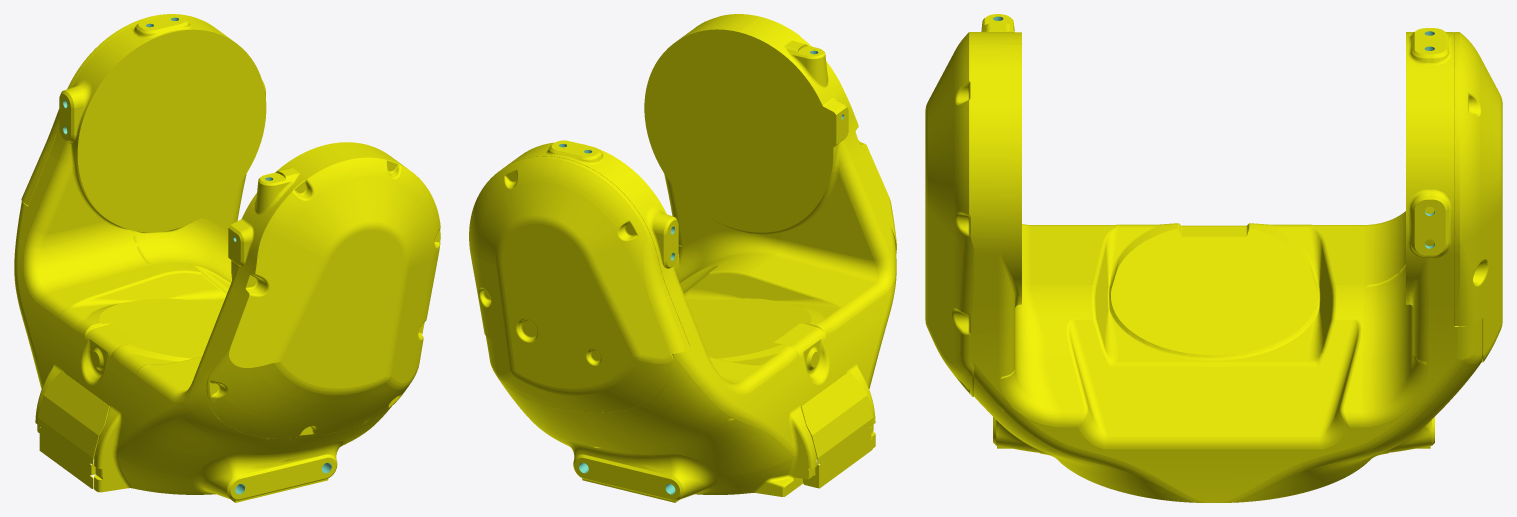
3 renders of one model, left to right at view 1: azimuth 30°, elevation 25°; view 2: azimuth 150°, elevation 25°; view 3: azimuth 270°, elevation 25°, orthographic. The views are drawn at different scales.
Parts seen in each view (by area): view 1: Mesh_0; view 2: Mesh_0; view 3: Mesh_0.
Part boxes in pixels (x1,y1,x2,y2): Mesh_0: (14, 14, 440, 502); Mesh_0: (469, 14, 896, 502); Mesh_0: (925, 14, 1502, 502).
Size of the model in its own units: 0.3925 by 0.5591 by 0.453.
